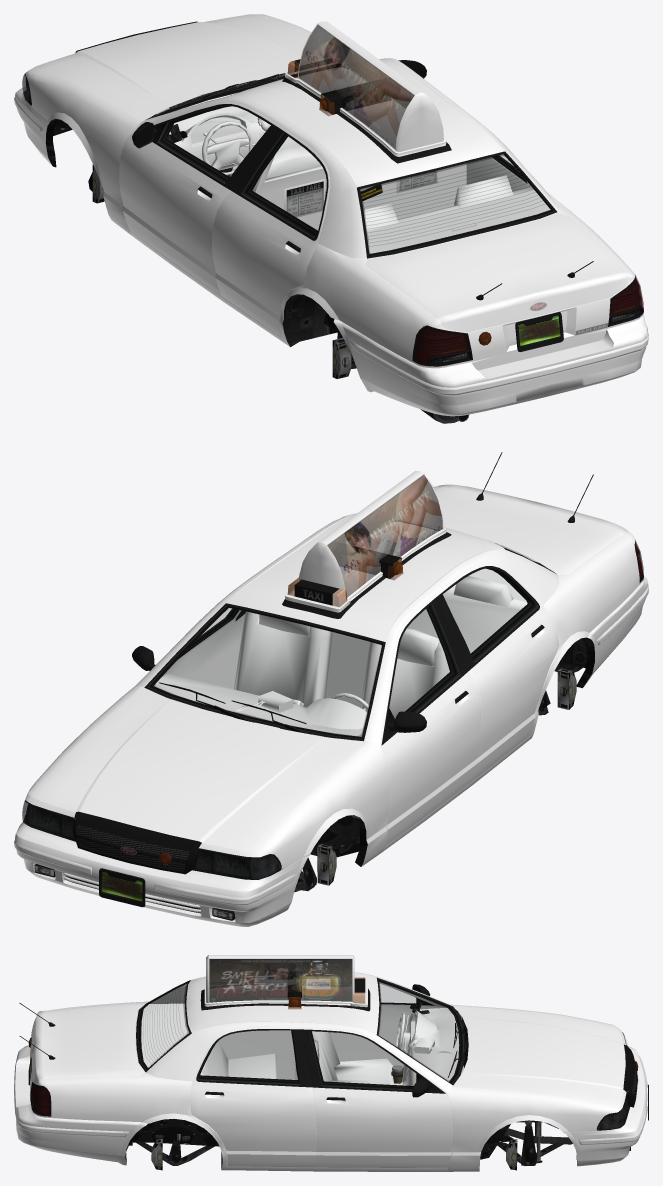
The model's file is taxi.glb.
The picture shows the model from 3 angles, top to bottom: view 1: azimuth 30°, elevation 25°; view 2: azimuth 150°, elevation 25°; view 3: azimuth 270°, elevation 25°; orthographic projection. The views are drawn at different scales.
Visible parts, largest first — view 1: g (×12); view 2: g (×11); view 3: g (×11).
Boxes of the visible parts, x1,y1,x2,y2 form: g (×12): [14, 14, 648, 423]; g (×11): [14, 452, 648, 926]; g (×11): [14, 955, 648, 1171].
Bounding box in the file's own units: 2.12 × 1.62 × 5.41.
Materials: 14 (12 with a texture image).
